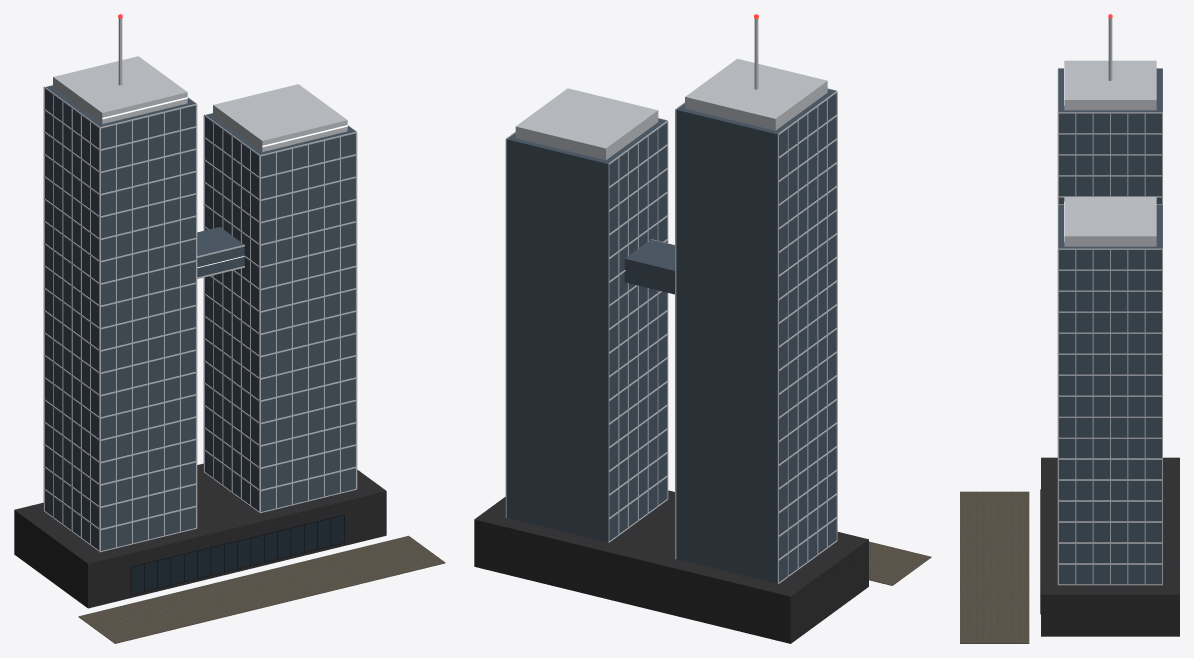
The model's file is OT_Skyscraper_Twin.glb.
The picture shows the model from 3 angles, left to right: view 1: azimuth 30°, elevation 25°; view 2: azimuth 150°, elevation 25°; view 3: azimuth 270°, elevation 25°; orthographic projection. The views are drawn at different scales.
Visible parts, largest first — view 1: OT_Skyscraper_Twin_SilverGlass__4a5a68, OT_Skyscraper_Twin_Mullion__c9ccd1, OT_Skyscraper_Twin_Granite, OT_Skyscraper_Twin_Pavement, OT_Skyscraper_Twin_Glass__22303a, OT_Skyscraper_Twin_Frame__18191c; view 2: OT_Skyscraper_Twin_SilverGlass__4a5a68, OT_Skyscraper_Twin_Mullion__c9ccd1, OT_Skyscraper_Twin_Granite, OT_Skyscraper_Twin_Pavement; view 3: OT_Skyscraper_Twin_SilverGlass__4a5a68, OT_Skyscraper_Twin_Mullion__c9ccd1, OT_Skyscraper_Twin_Granite, OT_Skyscraper_Twin_Pavement.
Part boxes in pixels (x1,y1,x2,y2): OT_Skyscraper_Twin_SilverGlass__4a5a68: (45,85,355,550); OT_Skyscraper_Twin_Mullion__c9ccd1: (43,18,357,552); OT_Skyscraper_Twin_Granite: (14,463,386,608); OT_Skyscraper_Twin_Pavement: (78,535,445,643); OT_Skyscraper_Twin_Glass__22303a: (131,515,343,594); OT_Skyscraper_Twin_Frame__18191c: (130,514,344,595); OT_Skyscraper_Twin_SilverGlass__4a5a68: (506,89,836,583); OT_Skyscraper_Twin_Mullion__c9ccd1: (505,18,837,584); OT_Skyscraper_Twin_Granite: (474,490,868,643); OT_Skyscraper_Twin_Pavement: (869,541,931,585); OT_Skyscraper_Twin_SilverGlass__4a5a68: (1058,69,1162,584); OT_Skyscraper_Twin_Mullion__c9ccd1: (1057,18,1162,585); OT_Skyscraper_Twin_Granite: (1041,457,1179,636); OT_Skyscraper_Twin_Pavement: (960,491,1029,643).
Bounding box in the file's own units: 62 × 98.65 × 38.
9 materials, 2 textured.
